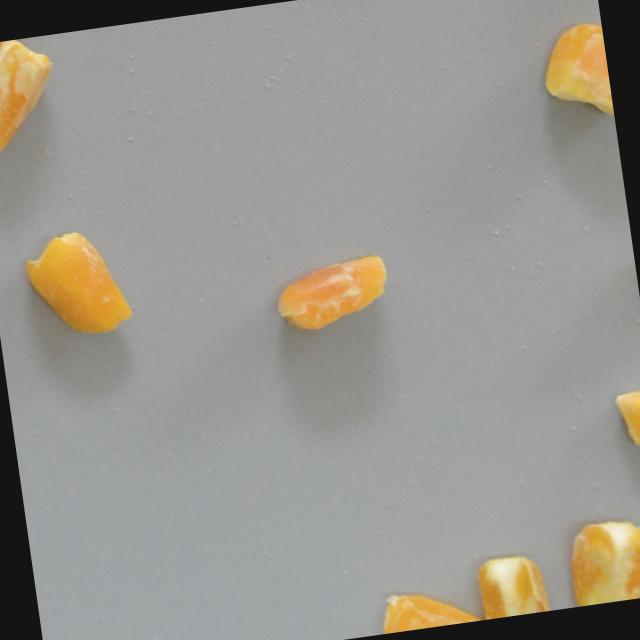pelicula: (19, 224, 136, 347), (271, 254, 393, 339), (0, 34, 69, 159), (536, 20, 615, 129), (565, 517, 640, 607), (376, 585, 489, 635), (476, 552, 555, 620), (612, 390, 640, 470)
